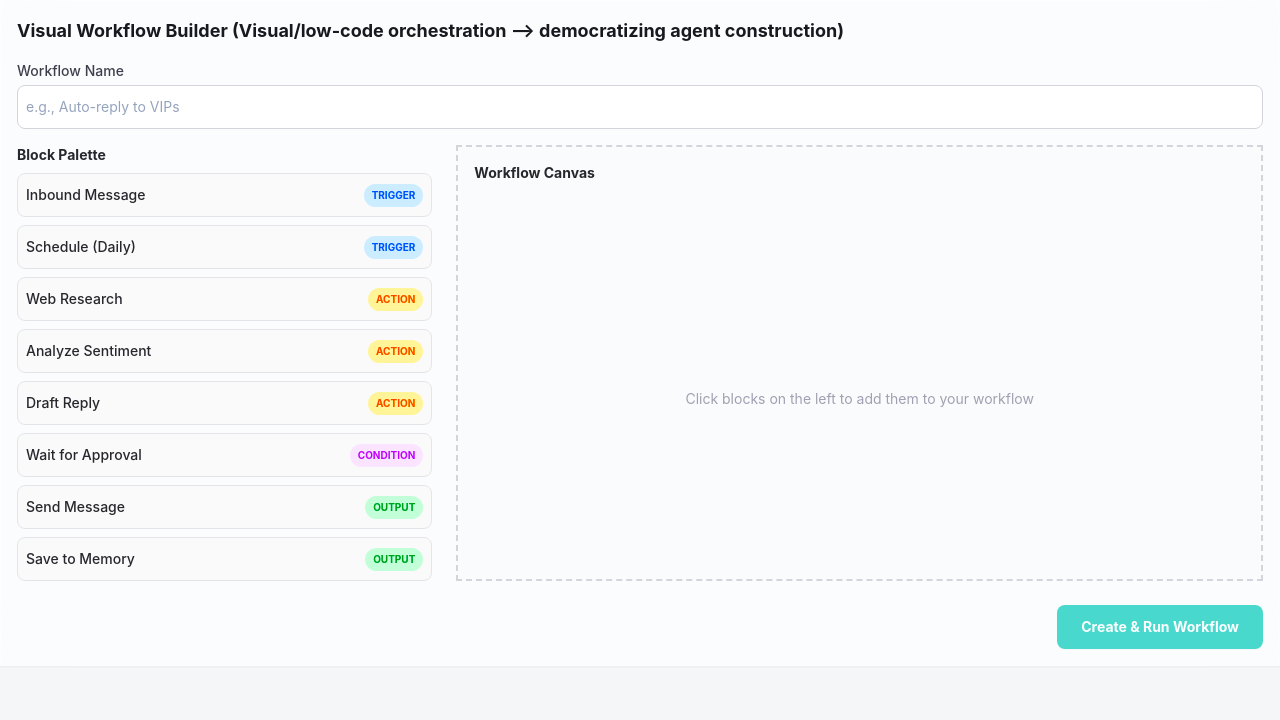
Scenario: keeps the draft and shows a fallback for a malformed save failure: null
Type "Retain this draft" into the field with placeholder "e.g., Auto-reply to VIPs".
click(640, 107); type("Retain this draft")  # box [17, 85, 1263, 129]
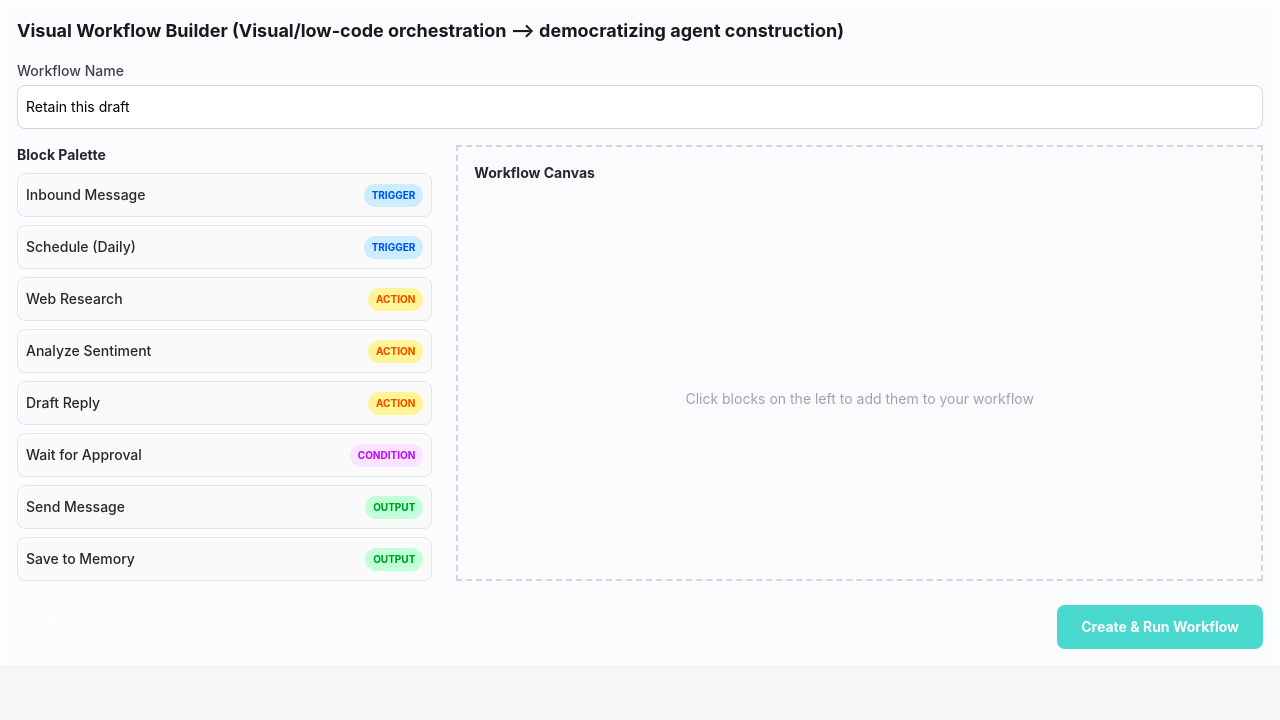
Click the button with test id "palette-block-trigger_message".
click(86, 194)  # box [17, 173, 432, 217]
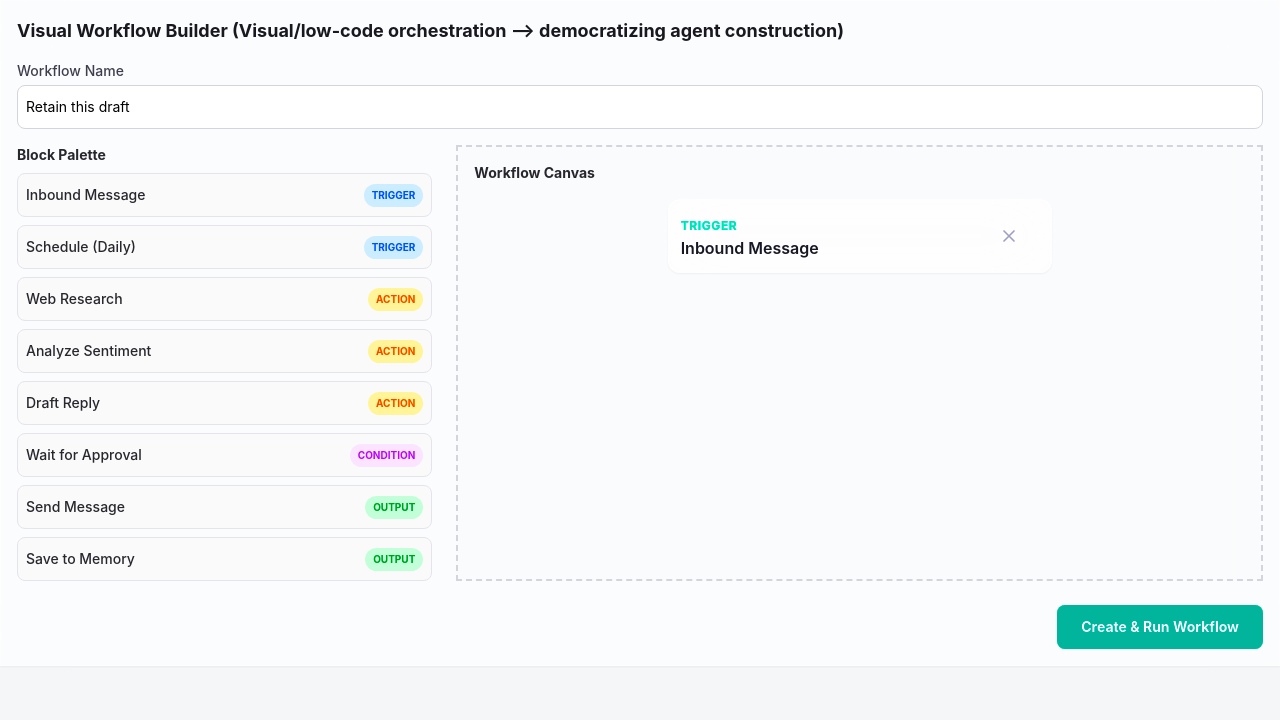
Click the button "Create & Run Workflow".
click(1160, 627)  # box [1057, 605, 1263, 649]
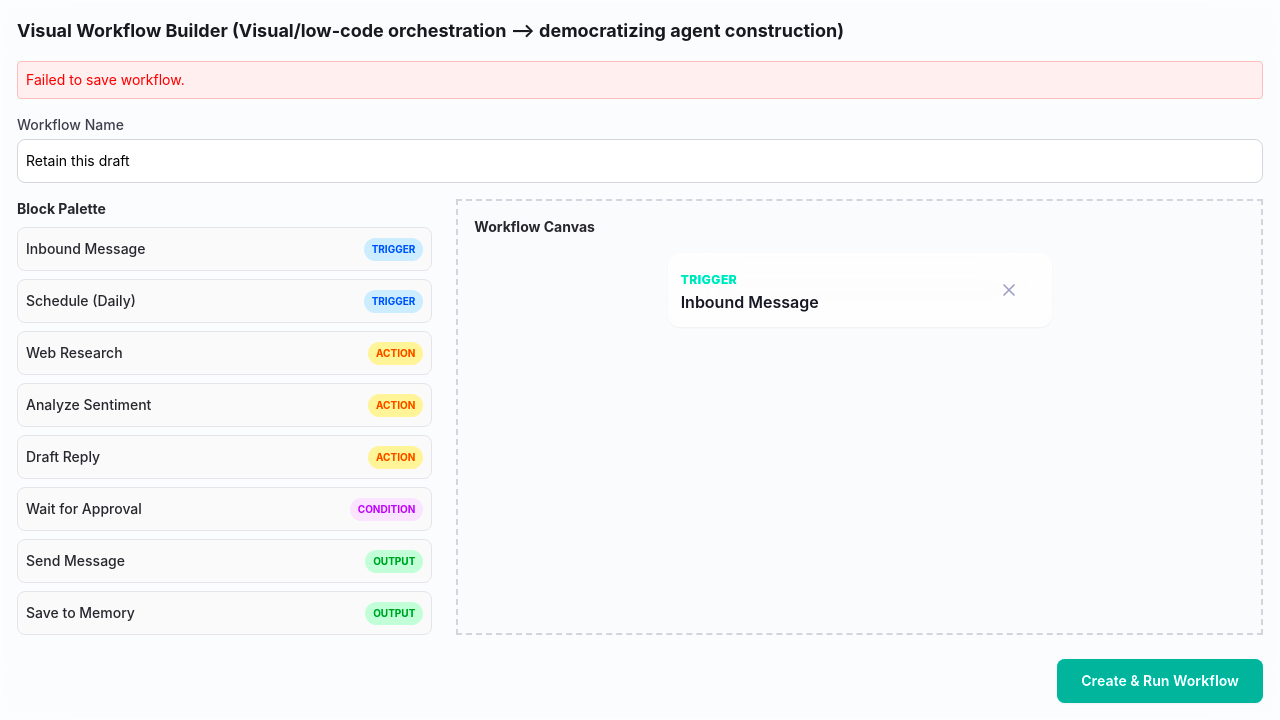
Expected: the element with test id "canvas-block-0" is shown, [668, 253, 1052, 327]
Expected: the button "Create & Run Workflow" is enabled, [1057, 659, 1263, 703]
Expected: the text with test id "builder-error" reads "Failed to save workflow.", [26, 71, 185, 88]
